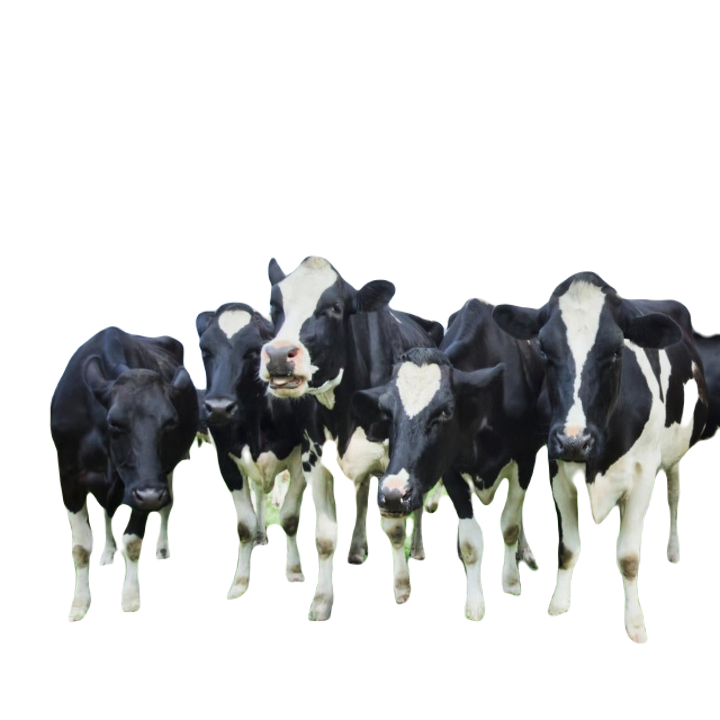Cow: (495, 270, 690, 650), (48, 327, 200, 623)
